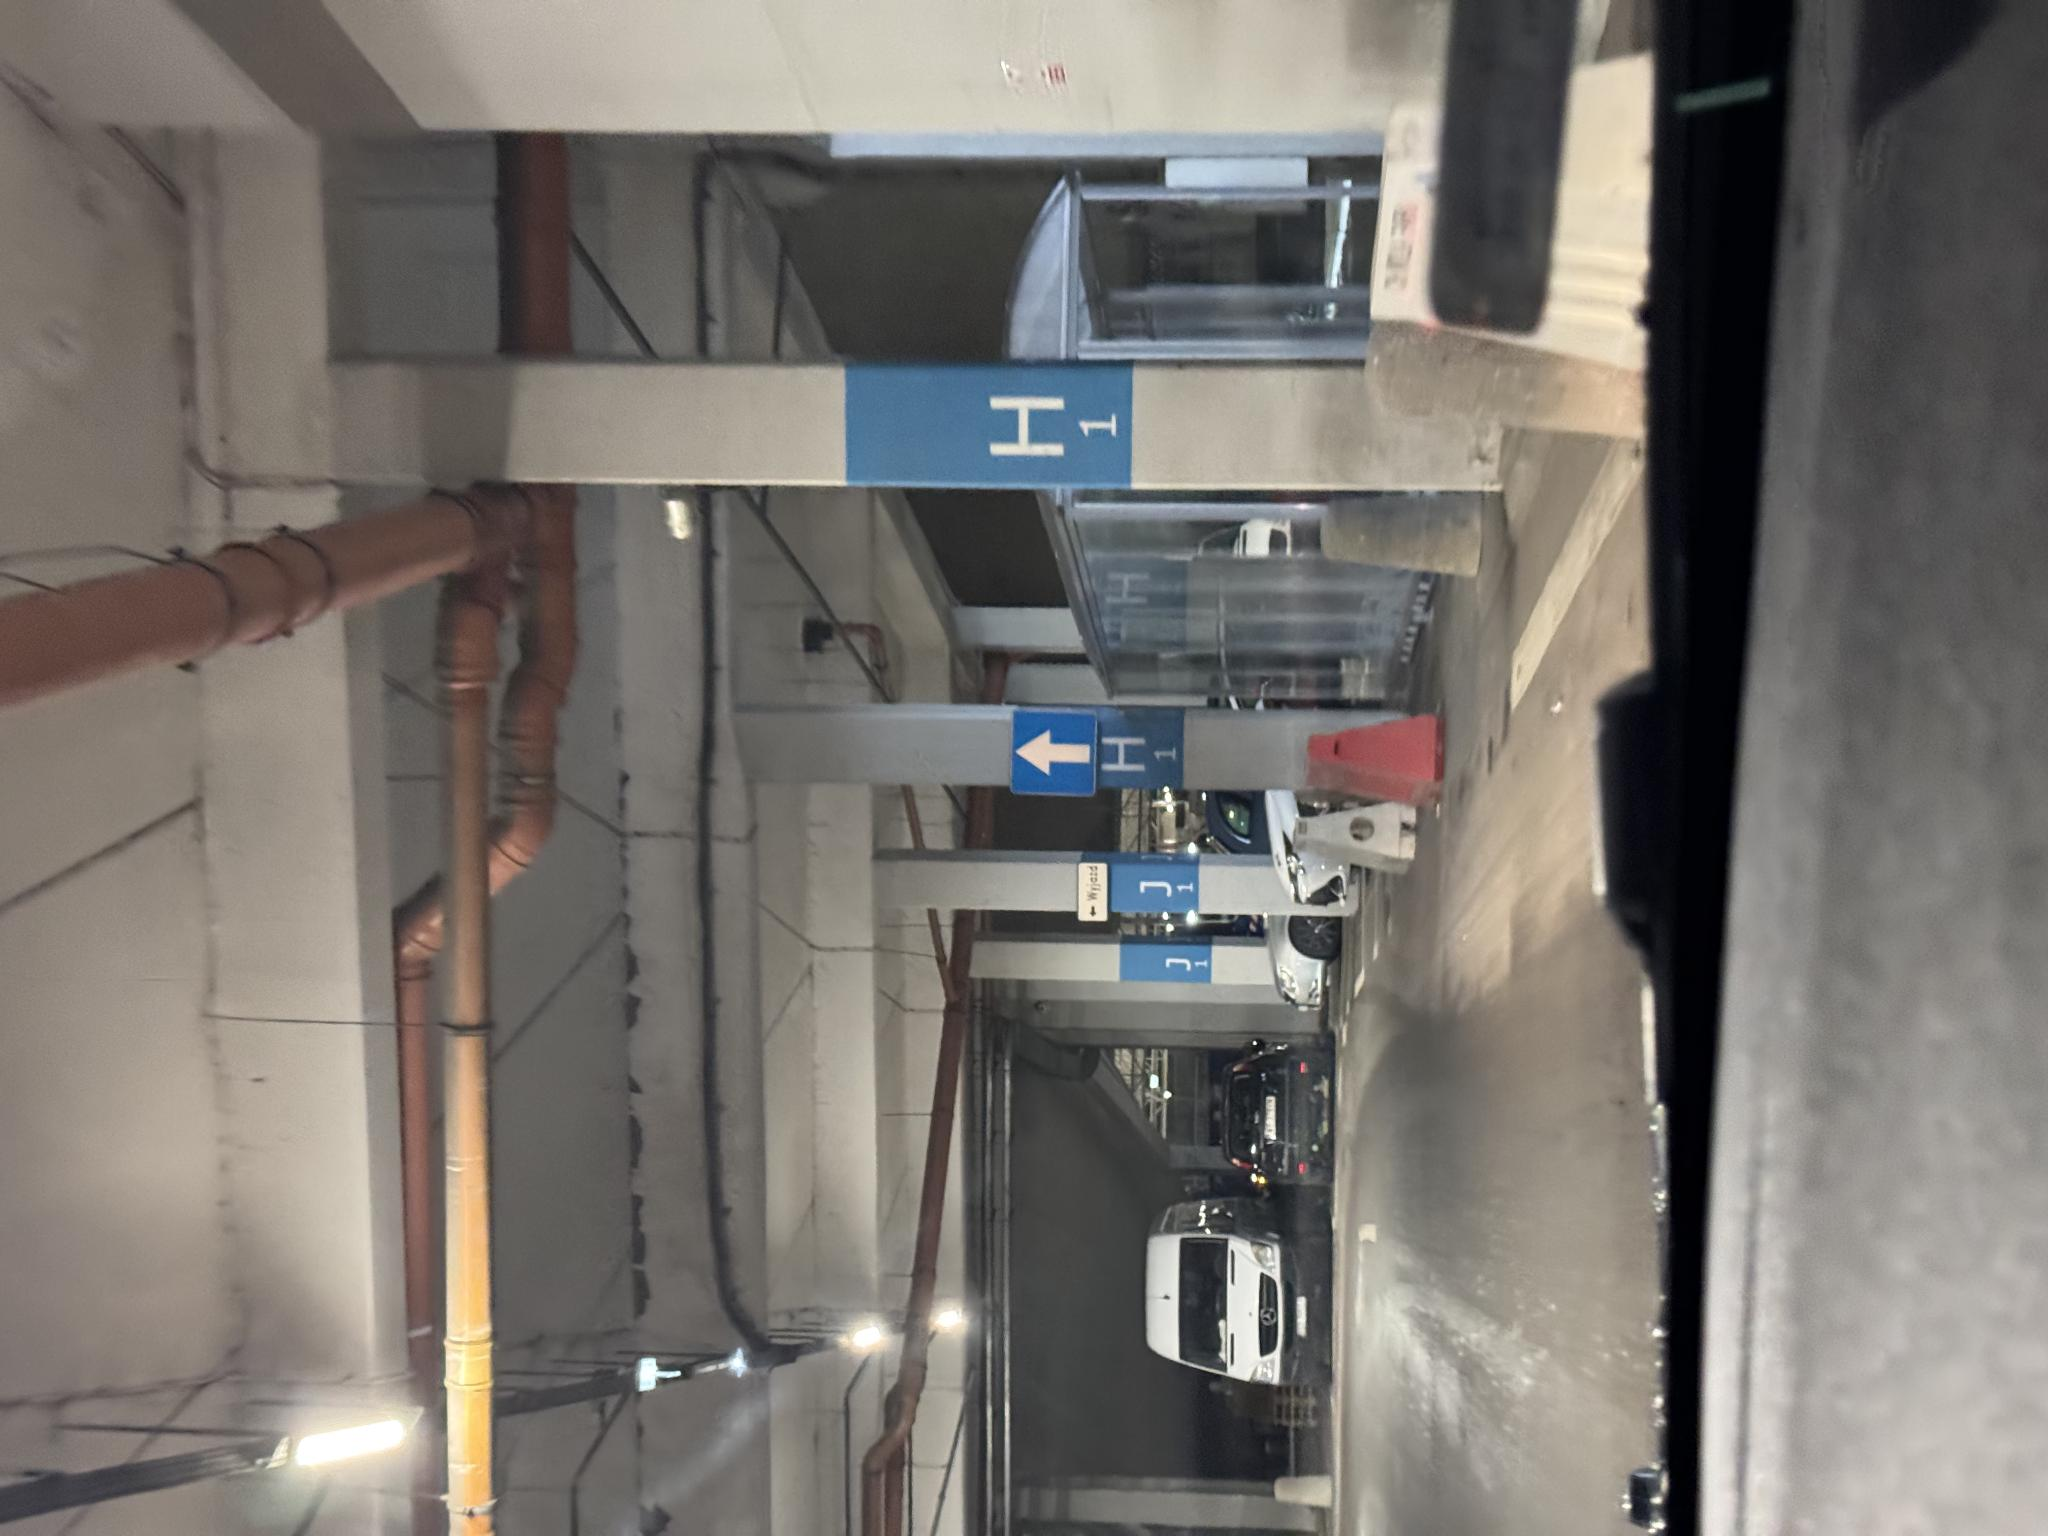information: (739, 1008, 827, 1098)
